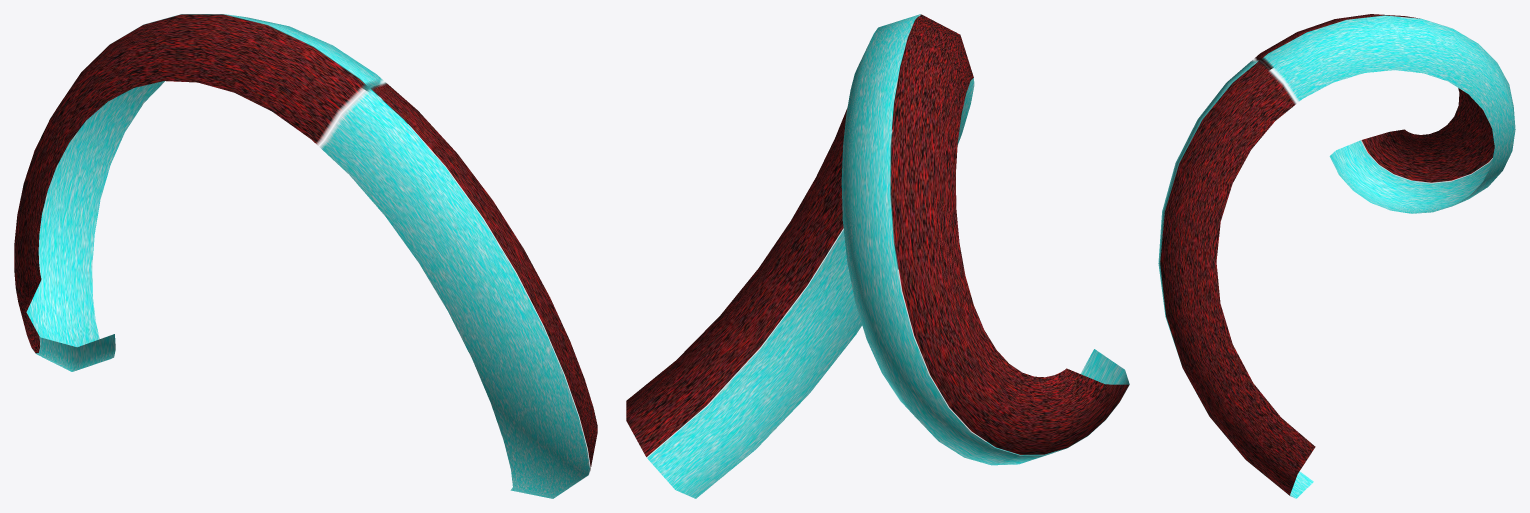
3 renders of one model, left to right at view 1: azimuth 30°, elevation 25°; view 2: azimuth 150°, elevation 25°; view 3: azimuth 270°, elevation 25°, orthographic. The views are drawn at different scales.
Parts seen in each view (by area): view 1: SM_Helix_02_LOD0; view 2: SM_Helix_02_LOD0; view 3: SM_Helix_02_LOD0.
Part boxes in pixels (x1=…): SM_Helix_02_LOD0: x1=14, y1=14, x2=597, y2=498; SM_Helix_02_LOD0: x1=626, y1=14, x2=1129, y2=498; SM_Helix_02_LOD0: x1=1158, y1=14, x2=1515, y2=498.
Size of the model in its own units: 0.8265 by 0.7827 by 0.6557.
Materials: 1 (1 with a texture image).
